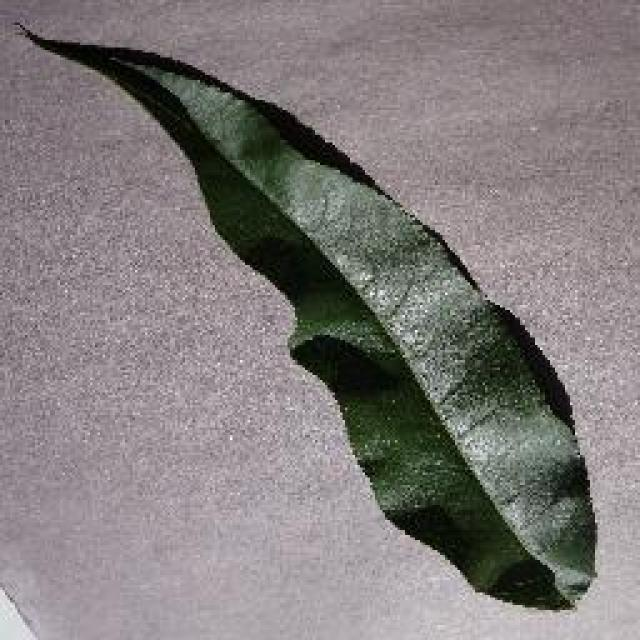Pea_healthy: (183, 71, 532, 490)
